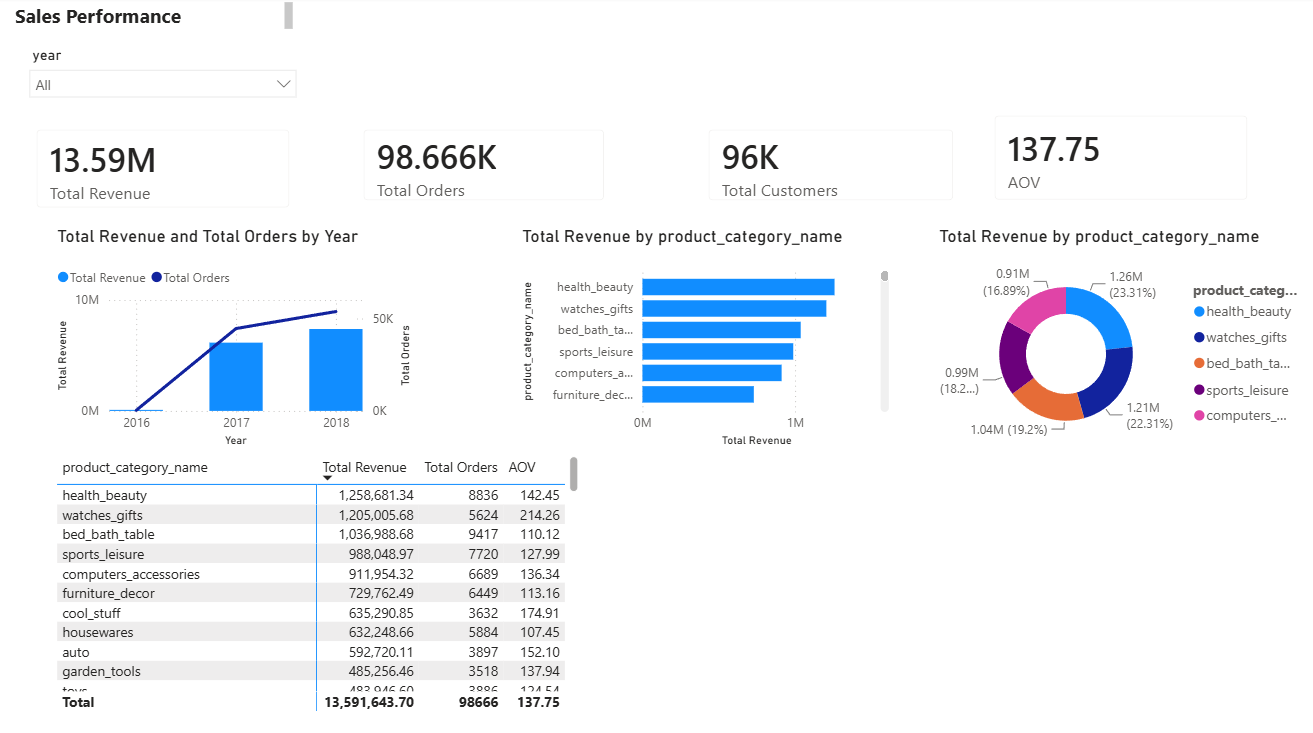

What the dashboard file says about the page in this screenshot:
{"tool":"powerbi","page":{"name":"Sales Performance","canvas":[1280,720],"ordinal":1},"visuals":[{"type":"textbox","box":[9.7,0,280.1,42.8],"z":0},{"type":"slicer","fields":{"Values":["public dim_date.year"]},"box":[18.5,42.8,280.1,69.1],"z":1000},{"type":"cardVisual","fields":{"Data":["public fact_orders.Total Revenue"]},"box":[18.5,111.9,280.1,110.9],"z":2000},{"type":"cardVisual","fields":{"Data":["public fact_orders.Total Orders"]},"box":[336.5,111.9,268.4,103.1],"z":3000},{"type":"cardVisual","fields":{"Data":["public fact_orders.AOV"]},"box":[950.3,98.2,280.1,116.7],"z":4000},{"type":"cardVisual","fields":{"Data":["public fact_orders.Total Cusomters"]},"box":[672.1,111.9,272.3,103.1],"z":5000},{"type":"lineClusteredColumnComboChart","fields":{"Category":["public dim_date.full_date.Variation.Date Hierarchy.Year","public dim_date.full_date.Variation.Date Hierarchy.Quarter","public dim_date.full_date.Variation.Date Hierarchy.Month","public dim_date.full_date.Variation.Date Hierarchy.Day"],"Y":["public fact_orders.Total Revenue"],"Y2":["public fact_orders.Total Orders"]},"box":[50.6,222.7,354,218.8],"z":6000},{"type":"clusteredBarChart","fields":{"Category":["public dim_product.product_category_name"],"Y":["public fact_orders.Total Revenue"]},"box":[502.9,222.7,366.7,218.8],"z":7000},{"type":"donutChart","fields":{"Category":["public dim_product.product_category_name"],"Y":["public fact_orders.Total Revenue"]},"box":[908.4,222.7,362.8,218.8],"z":8000},{"type":"pivotTable","fields":{"Rows":["public dim_product.product_category_name"],"Values":["public fact_orders.Total Revenue","public fact_orders.Total Orders","public fact_orders.AOV"]},"box":[50.6,441.6,517.4,257.8],"z":9000}]}

Visuals, with their boxes in screenshot pixels (x1, y1, x2, y2), scaled from the page's 1280x720 canvas onto the 1313x733 screenshot:
textbox: <bbox>10, 0, 297, 44</bbox>
slicer - public dim_date.year: <bbox>19, 44, 306, 114</bbox>
cardVisual - public fact_orders.Total Revenue: <bbox>19, 114, 306, 227</bbox>
cardVisual - public fact_orders.Total Orders: <bbox>345, 114, 620, 219</bbox>
cardVisual - public fact_orders.AOV: <bbox>975, 100, 1262, 219</bbox>
cardVisual - public fact_orders.Total Cusomters: <bbox>689, 114, 969, 219</bbox>
lineClusteredColumnComboChart - public dim_date.full_date.Variation.Date Hierarchy.Year x public dim_date.full_date.Variation.Date Hierarchy.Quarter: <bbox>52, 227, 415, 449</bbox>
clusteredBarChart - public dim_product.product_category_name x public fact_orders.Total Revenue: <bbox>516, 227, 892, 449</bbox>
donutChart - public dim_product.product_category_name x public fact_orders.Total Revenue: <bbox>932, 227, 1304, 449</bbox>
pivotTable - public dim_product.product_category_name x public fact_orders.Total Revenue: <bbox>52, 450, 583, 712</bbox>
